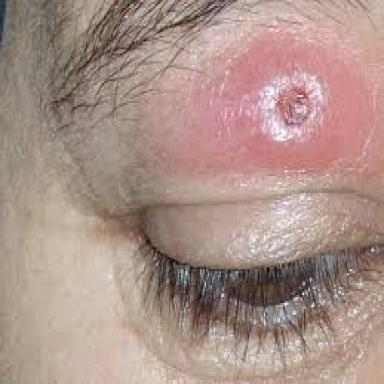Leishmanios: (213, 42, 377, 172)
